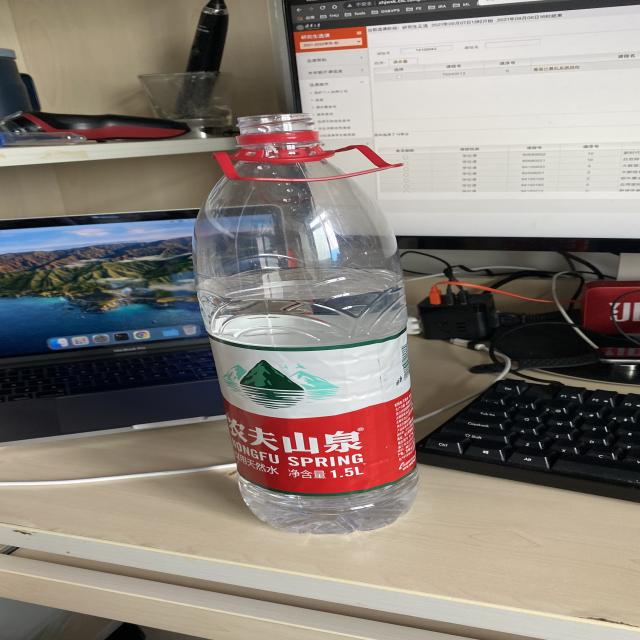Anorganik: (173, 103, 440, 547)
